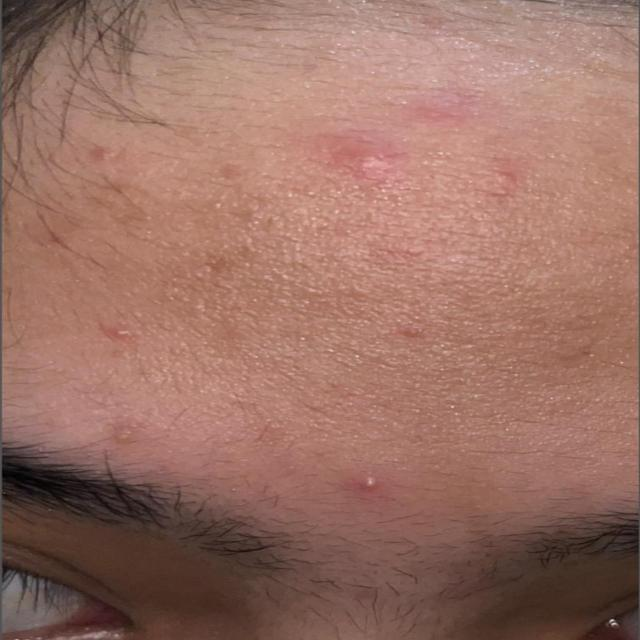papule: (308, 57, 544, 203)
pustule: (331, 461, 393, 505), (110, 321, 142, 346)
